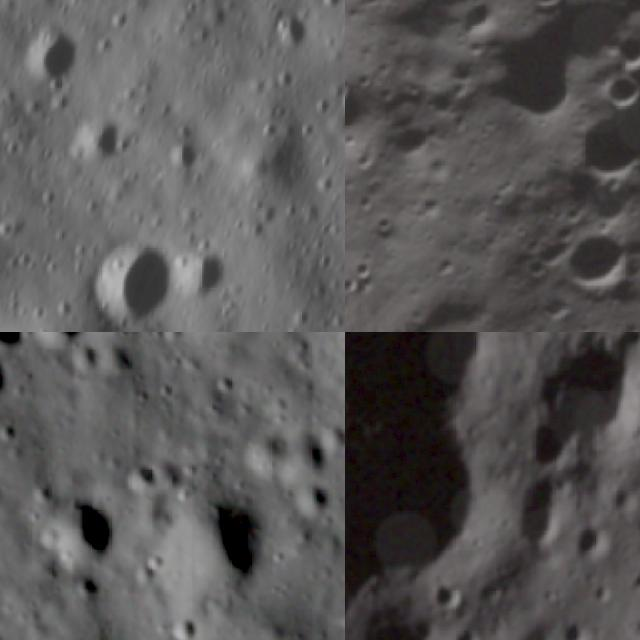crater: (556, 0, 640, 332), (77, 216, 192, 332), (177, 496, 271, 614), (547, 210, 640, 311), (32, 490, 121, 576), (19, 12, 92, 89), (66, 102, 136, 170), (378, 108, 444, 174), (169, 244, 236, 304), (280, 417, 344, 474), (157, 118, 214, 180), (238, 424, 298, 481), (264, 0, 315, 57), (531, 284, 585, 332), (289, 472, 335, 527), (598, 64, 640, 124), (452, 0, 504, 44), (605, 15, 640, 78), (121, 455, 163, 501), (191, 332, 270, 351), (434, 580, 470, 618), (345, 57, 367, 118), (165, 606, 202, 640), (582, 524, 613, 564), (34, 332, 90, 354), (370, 206, 404, 240), (526, 0, 577, 21), (352, 254, 382, 286), (351, 188, 382, 218), (0, 347, 15, 406), (560, 615, 584, 640), (626, 572, 640, 600), (317, 0, 345, 10)
